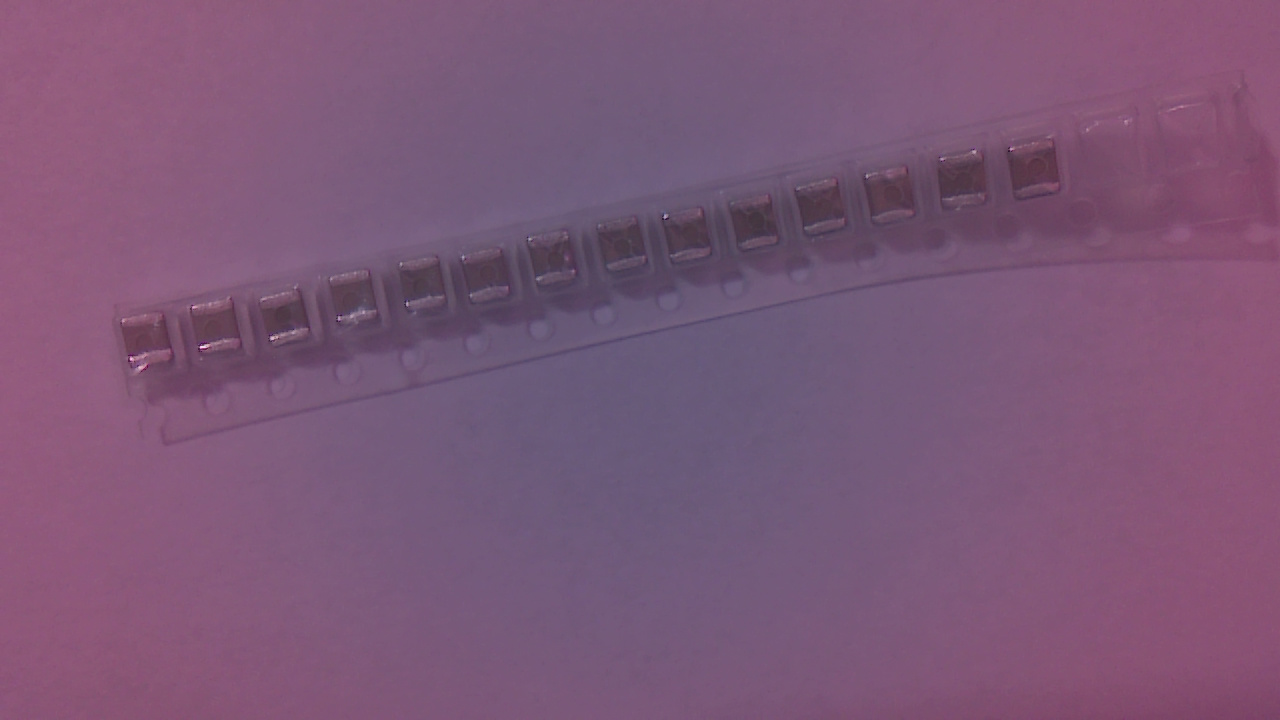Condensator: (1008, 142, 1068, 208), (937, 155, 995, 215), (798, 180, 853, 243), (463, 245, 518, 308), (332, 273, 386, 337), (601, 220, 656, 282), (532, 232, 586, 295), (397, 258, 454, 317), (125, 314, 179, 376), (263, 294, 318, 354), (868, 167, 922, 228), (732, 196, 786, 257), (195, 303, 250, 362), (666, 212, 723, 268)
